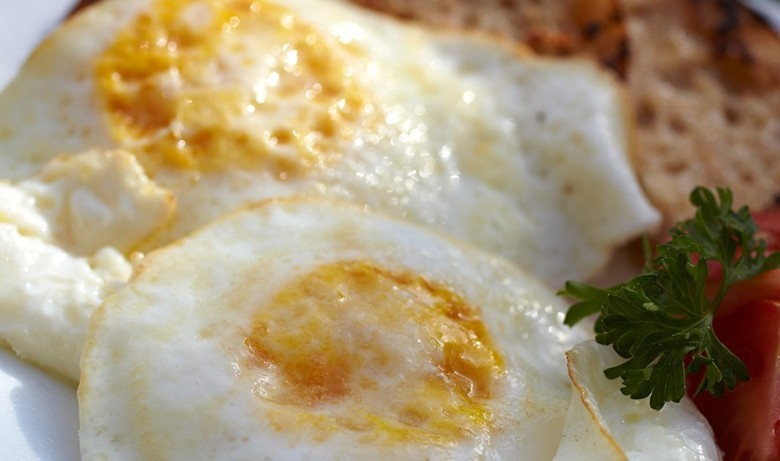gyelanhulai: (6, 8, 620, 454)
